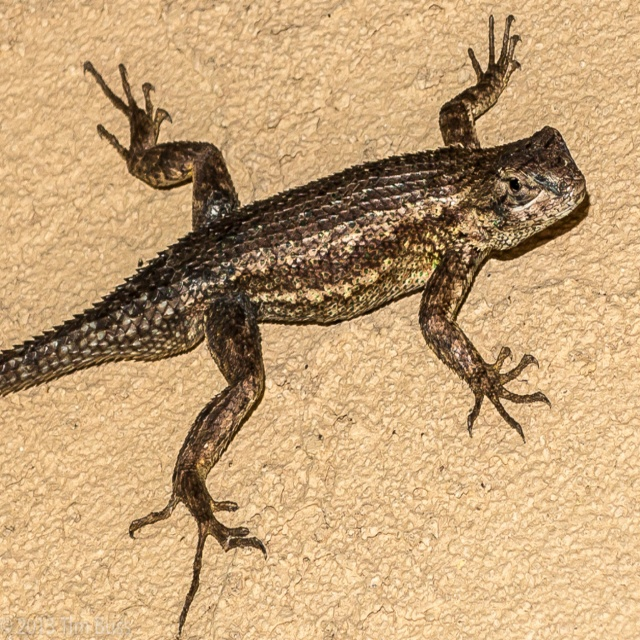Lizard: (0, 13, 588, 635)
